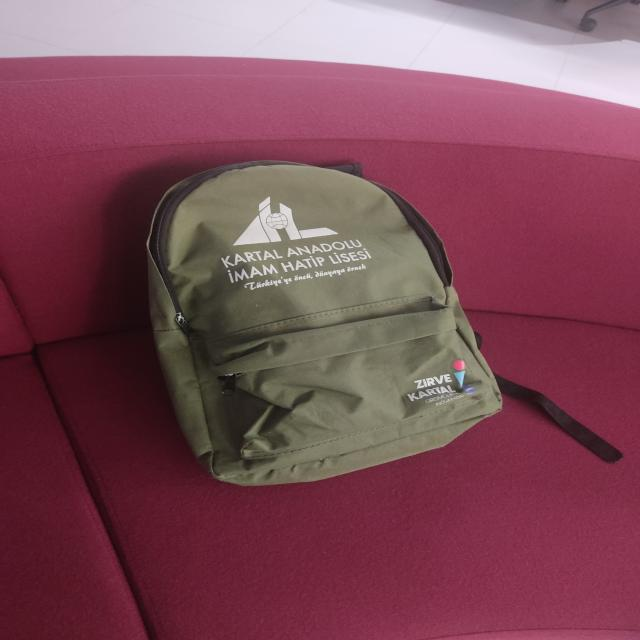bag: (132, 158, 502, 494)
